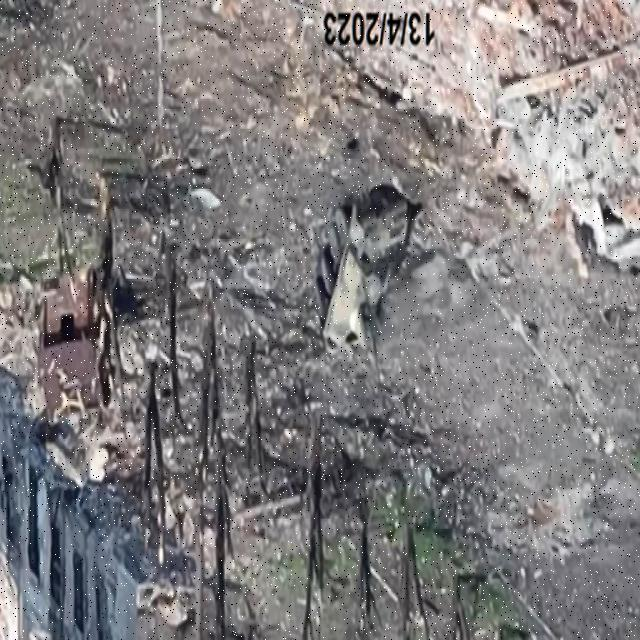APC-IFV: (317, 192, 418, 378)
